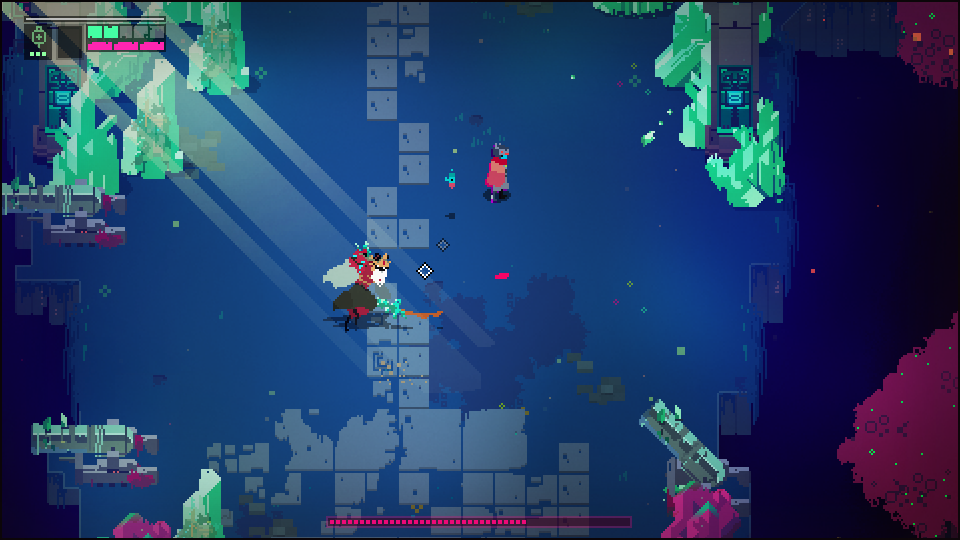hanged_man: (318, 235, 413, 328)
player: (481, 143, 515, 202)
